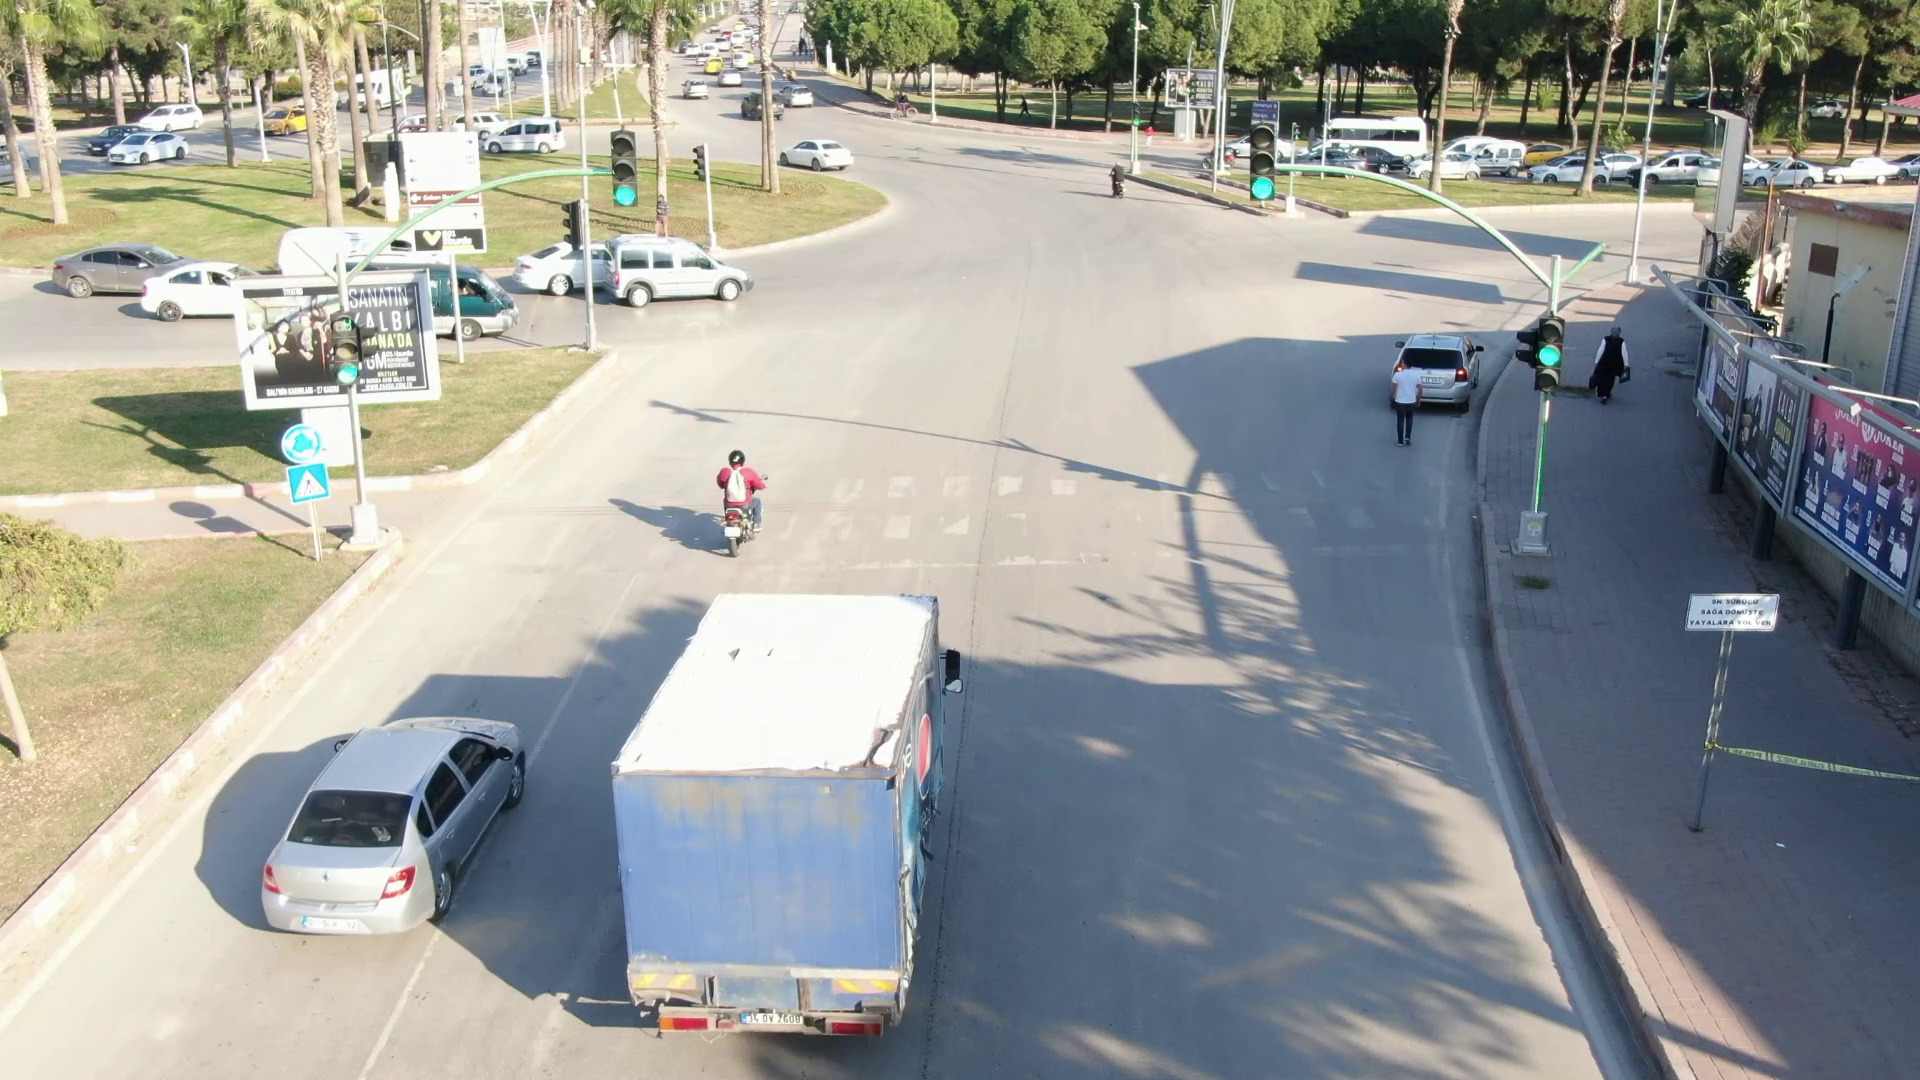car: (591, 539, 1123, 1049), (228, 650, 565, 954), (601, 229, 765, 311), (50, 239, 240, 304), (777, 127, 863, 178), (100, 121, 197, 165), (480, 115, 571, 157), (774, 80, 820, 111), (676, 73, 709, 103), (714, 63, 745, 87)
person: (702, 435, 790, 539), (1375, 334, 1442, 455), (1586, 313, 1649, 406)
